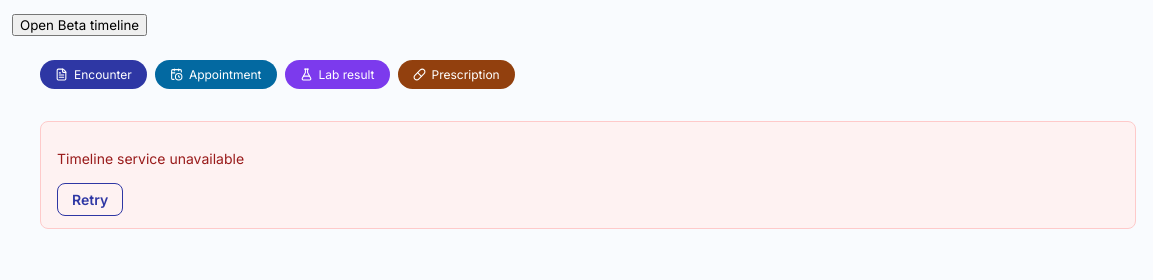
Test: PatientTimeline › announces a loading failure and retries the current chart
The image size is (1153, 280).
Check: the message shows "Timeline service unavailable", box x1=57 y1=150 x2=244 y2=167
Click the button "Retry" at (90, 200), box x1=57 y1=183 x2=123 y2=216
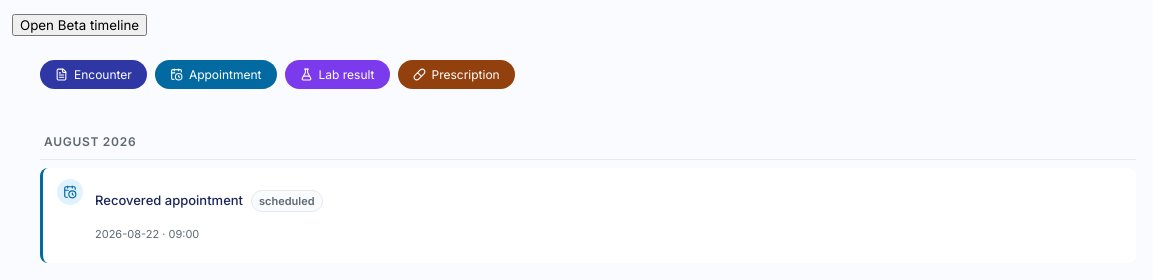
Check: the text "Recovered appointment" is shown, box x1=95 y1=191 x2=243 y2=210
